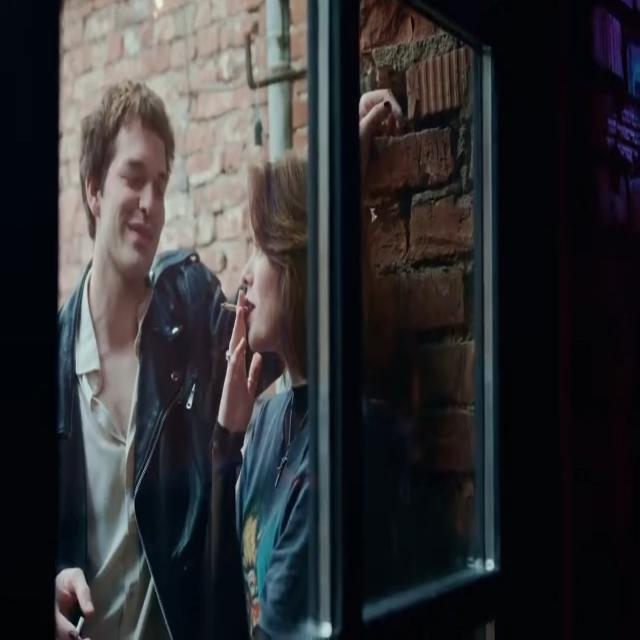Курение: (219, 295, 246, 317)
